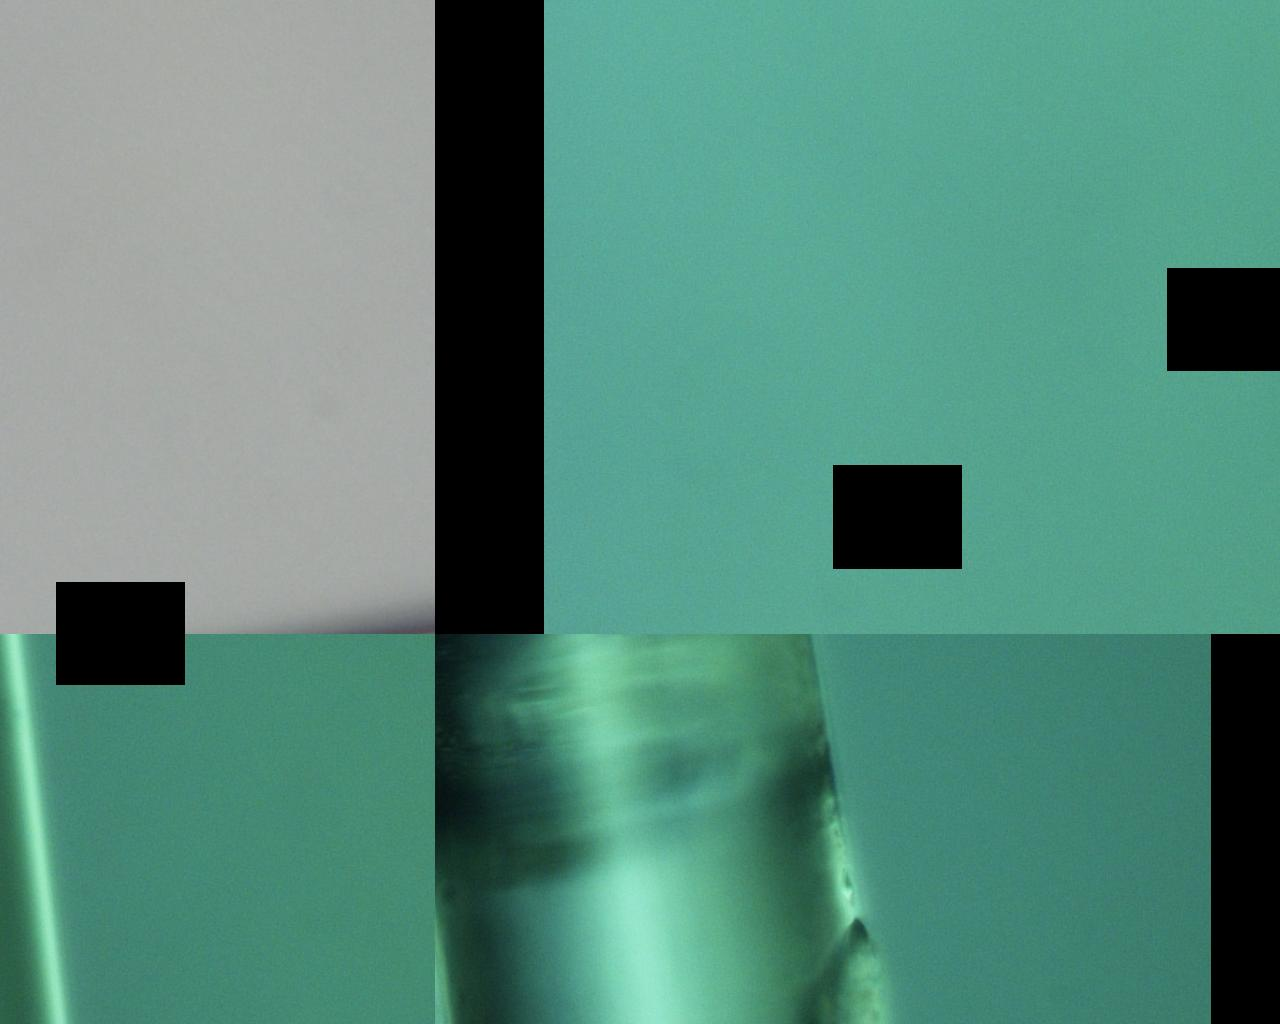fiber: (236, 471, 768, 1024), (842, 416, 1280, 471), (886, 823, 1280, 842)
